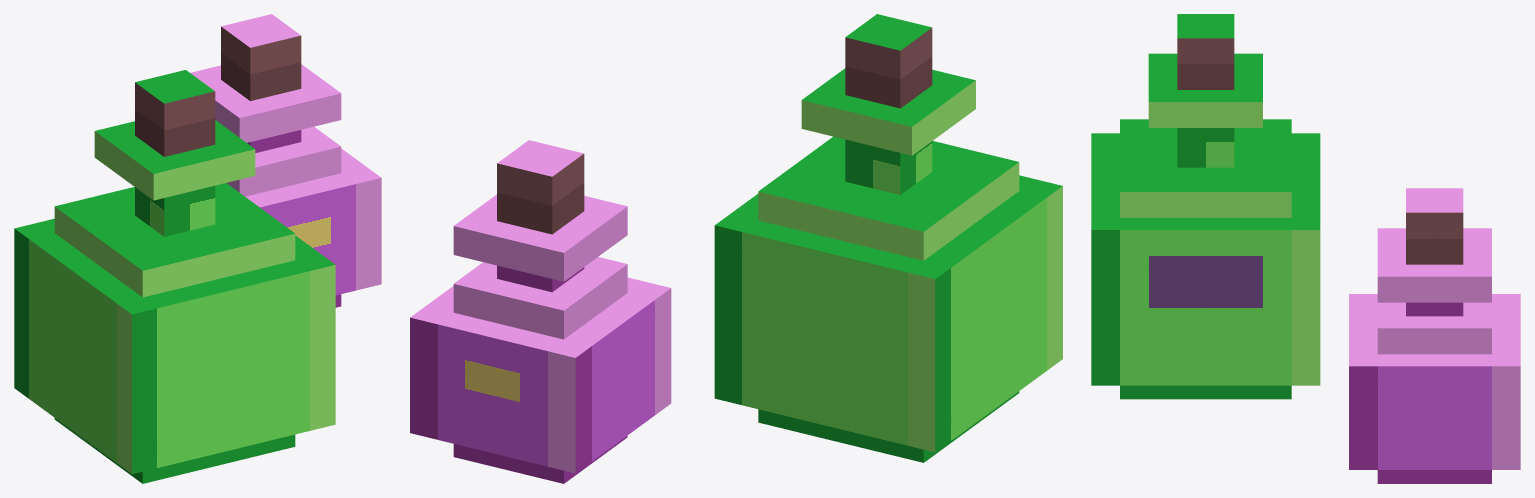
The model's file is zu_bazaar_1ao.fezao.glb.
The picture shows the model from 3 angles, left to right: view 1: azimuth 30°, elevation 25°; view 2: azimuth 150°, elevation 25°; view 3: azimuth 270°, elevation 25°; orthographic projection. The views are drawn at different scales.
Parts seen in each view (by area): view 1: ZU_BAZAAR_1AO; view 2: ZU_BAZAAR_1AO; view 3: ZU_BAZAAR_1AO.
Boxes of the visible parts, bbox=[...] form: ZU_BAZAAR_1AO: bbox=[14, 14, 381, 483]; ZU_BAZAAR_1AO: bbox=[410, 14, 1062, 483]; ZU_BAZAAR_1AO: bbox=[1091, 14, 1520, 483].
Size of the model in its own units: 0.9375 by 0.8125 by 0.9375.
1 material, 1 textured.
